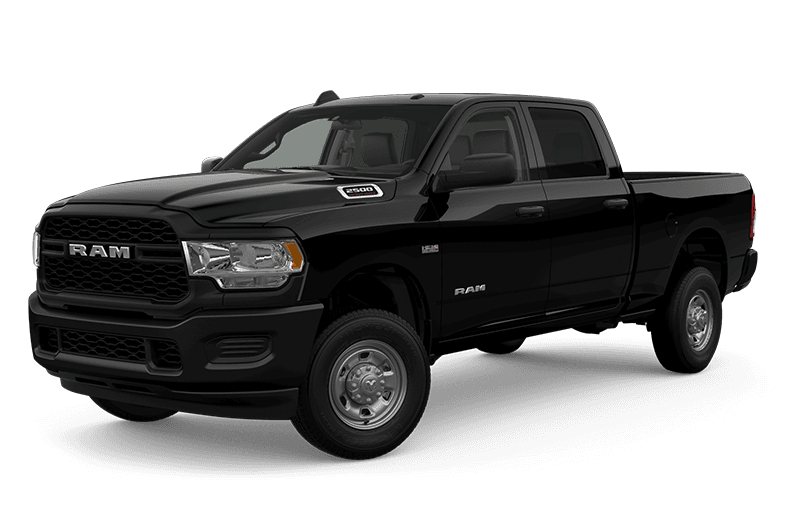Car: (26, 79, 770, 468)
